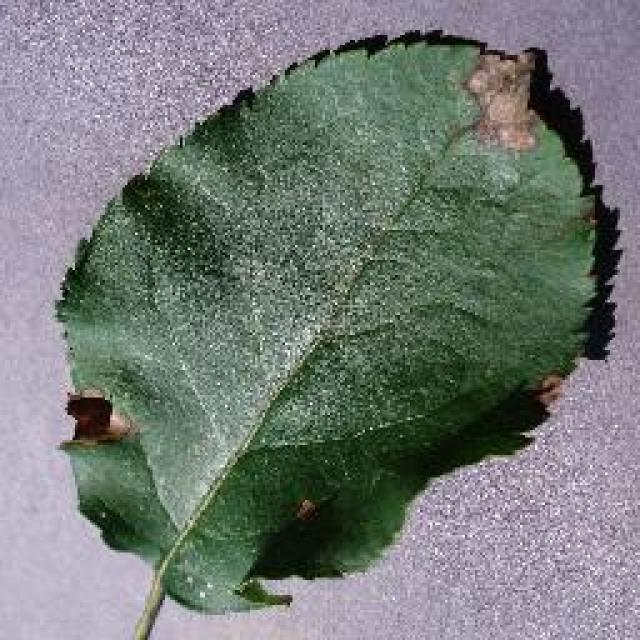apple scab disease: (50, 25, 620, 615)
